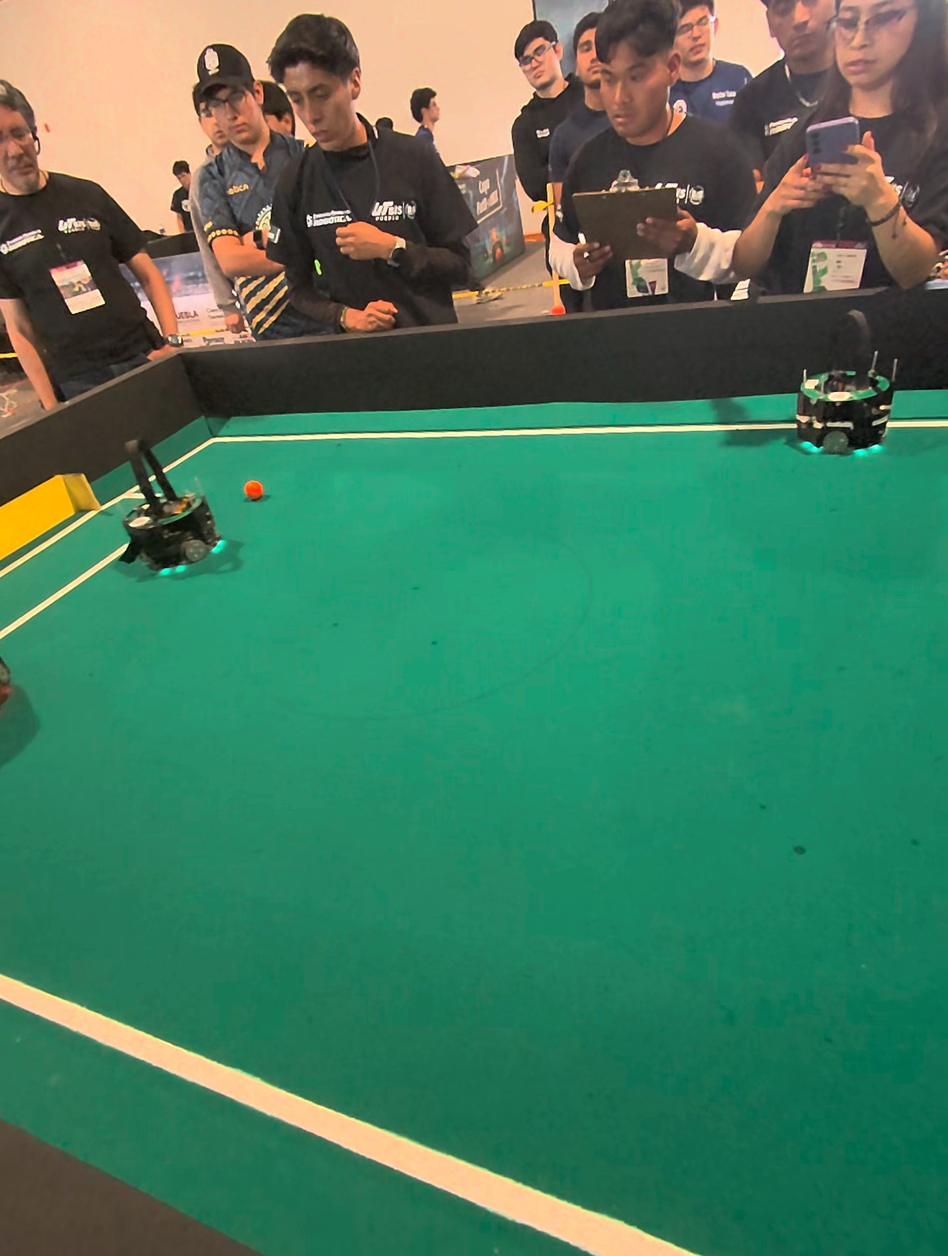Robot: (108, 433, 226, 592), (791, 308, 901, 475), (0, 634, 48, 771)
pelota: (235, 470, 281, 519)
